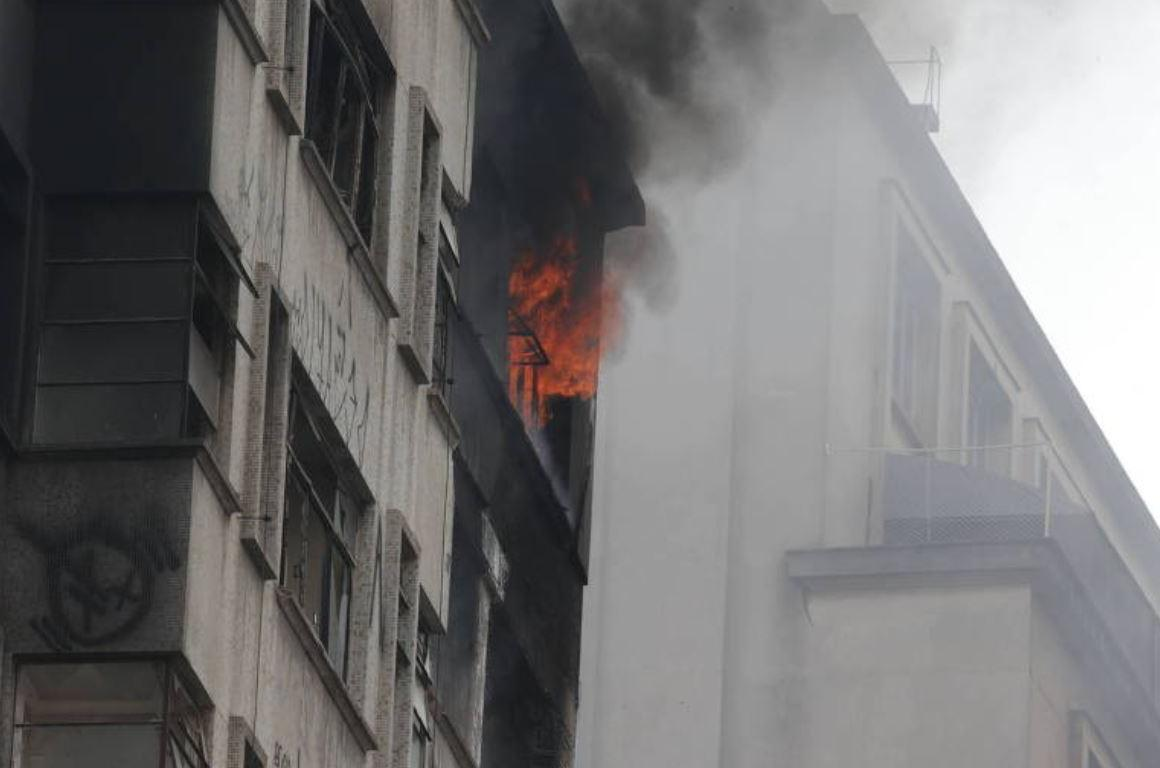Fire: (502, 233, 614, 428)
